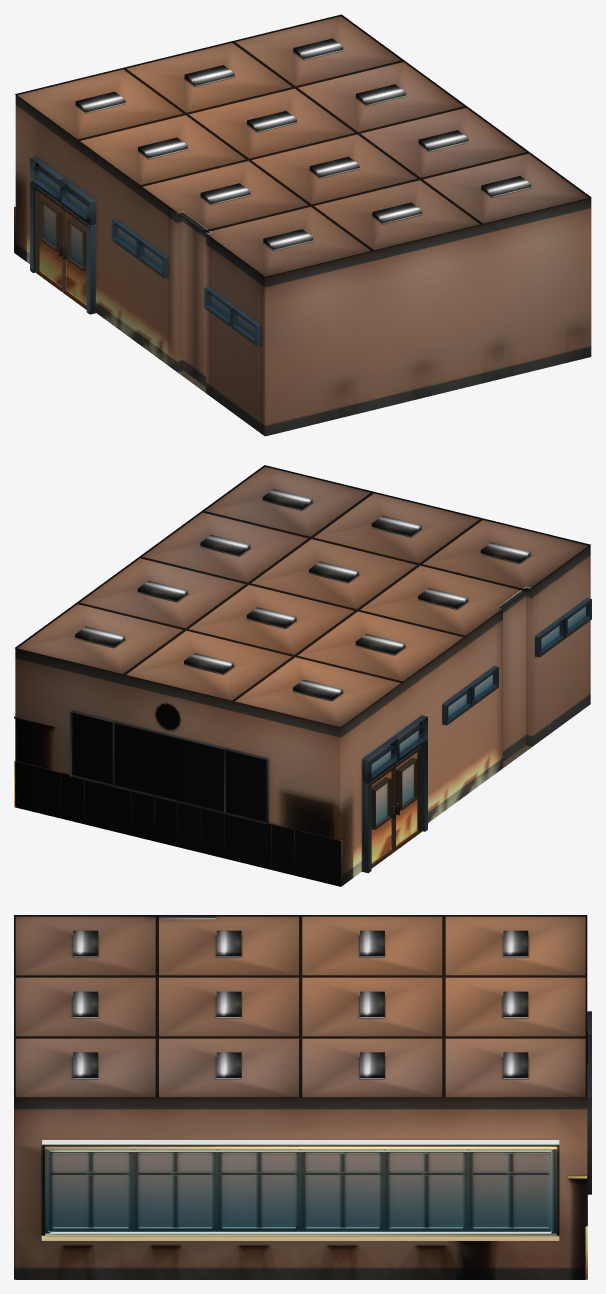
3 views of the same model, one above another, from view 1: azimuth 30°, elevation 25°; view 2: azimuth 150°, elevation 25°; view 3: azimuth 270°, elevation 25° (orthographic). The views are drawn at different scales.
Visible parts, largest first — view 1: Classroom; view 2: Classroom; view 3: Classroom, glass.
Boxes of the visible parts, left/top/right/bottom form: Classroom: left=14, top=14, right=591, bottom=436; Classroom: left=14, top=465, right=591, bottom=886; Classroom: left=14, top=915, right=591, bottom=1279; glass: left=45, top=1149, right=556, bottom=1233.
Bounding box in the file's own units: 9.38 × 4.28 × 11.99.
2 materials, 1 textured.
